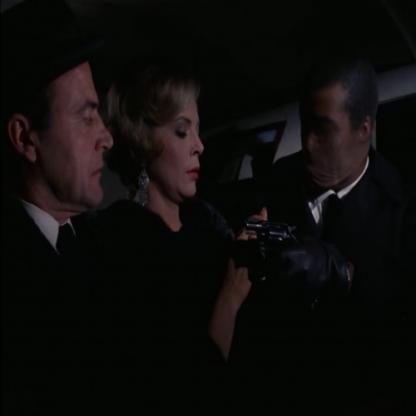Gun: (242, 216, 303, 278)
